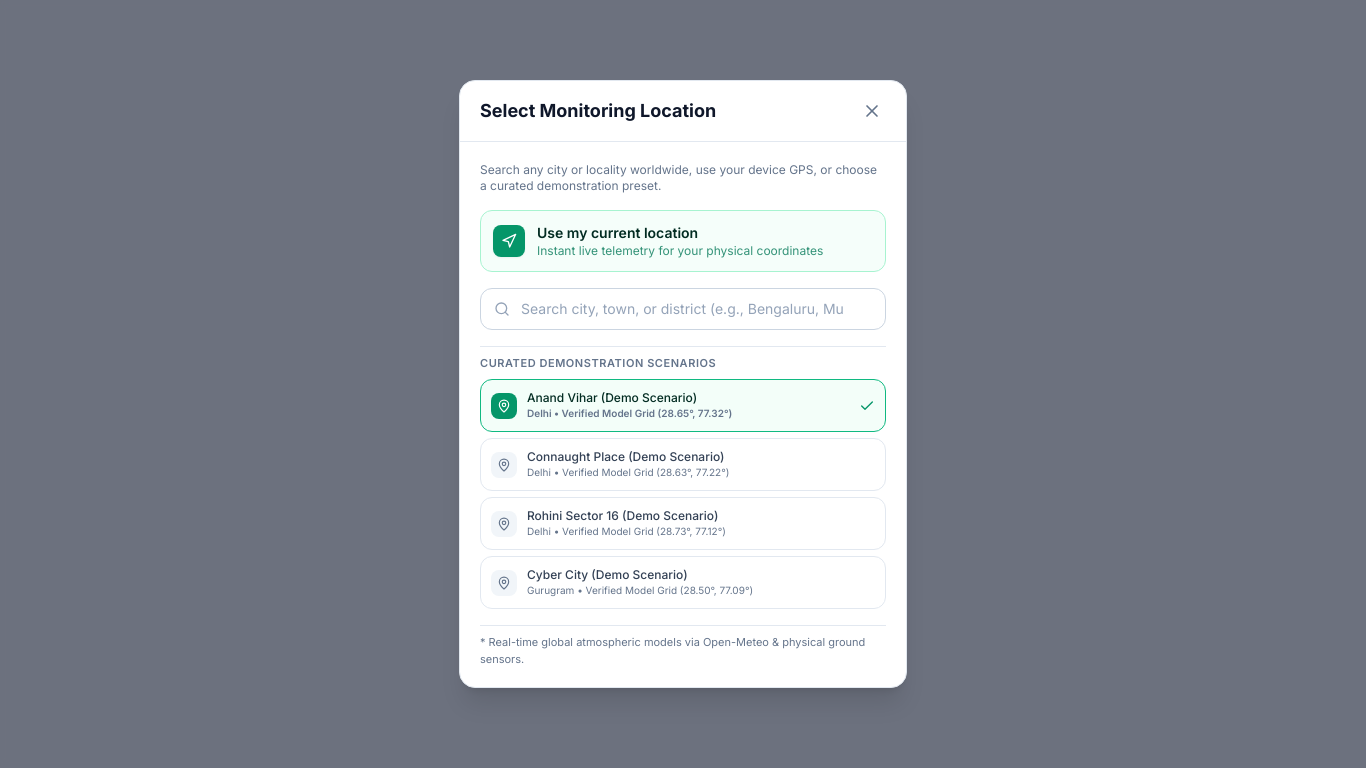
Scenario: Phase 7.1 — Live Location System › 1. Location Search › 1.4 handles API search failure gracefully and allows user to retry
Replace the text in the field with test id "location-search-input" with "Mumbai" at (683, 309), box [480,288,886,330]
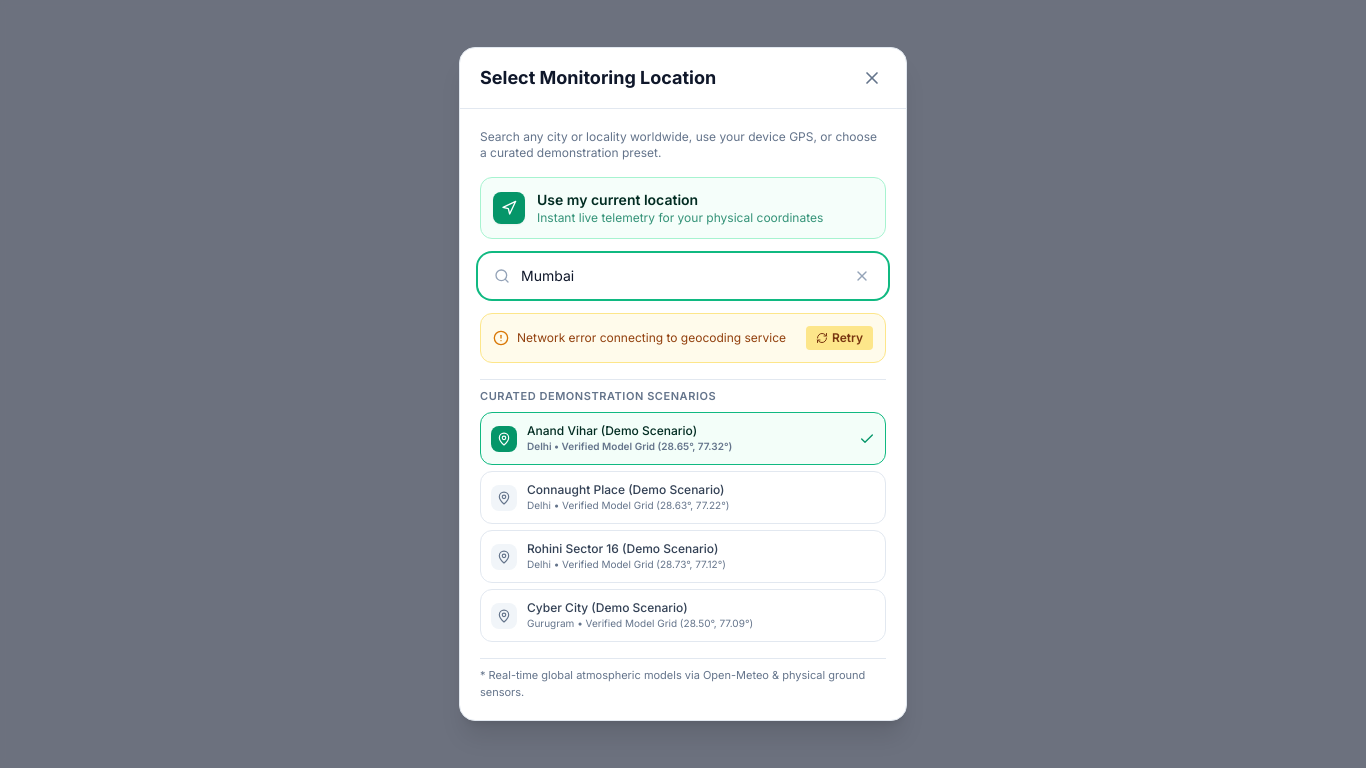
Expected: the message "Network error connecting to geocoding service Retry" is shown, [480,313,886,363]
Expected: the text "Network error connecting to geocoding service" is shown, [517,330,786,346]
# Click retry button
Click the button "Retry" at (840, 338), box [806,326,873,350]
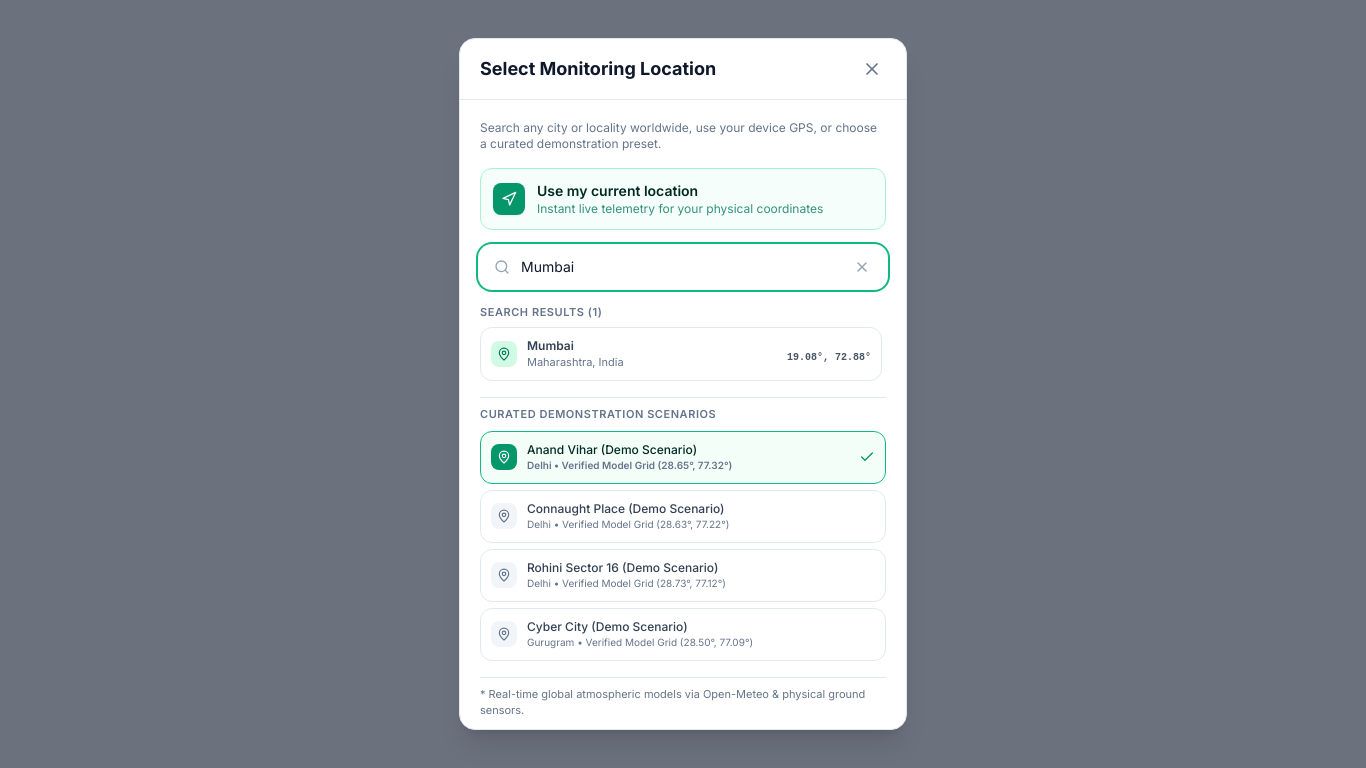
Expected: the text "Mumbai" is shown, [527,338,574,353]
Expected: the text "Maharashtra, India" is shown, [527,354,624,370]
